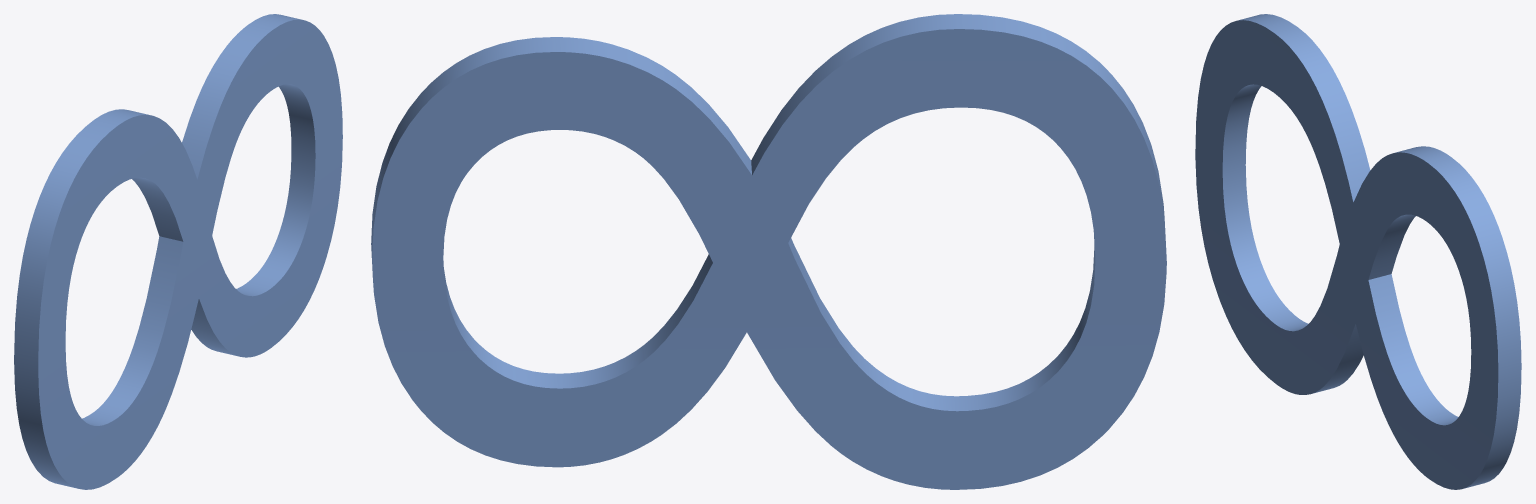
File: New_Number_8.gltf
The picture shows the model from 3 angles, left to right: view 1: azimuth 30°, elevation 25°; view 2: azimuth 150°, elevation 25°; view 3: azimuth 270°, elevation 25°; orthographic projection. The views are drawn at different scales.
Parts seen in each view (by area): view 1: Part 17; view 2: Part 17; view 3: Part 17.
Part boxes in pixels (box(x1,y1,x2,y2)): Part 17: box(14, 14, 342, 489); Part 17: box(371, 14, 1166, 489); Part 17: box(1195, 14, 1521, 489).
Size of the model in its own units: 0.00503 by 0.00362 by 0.00305.
